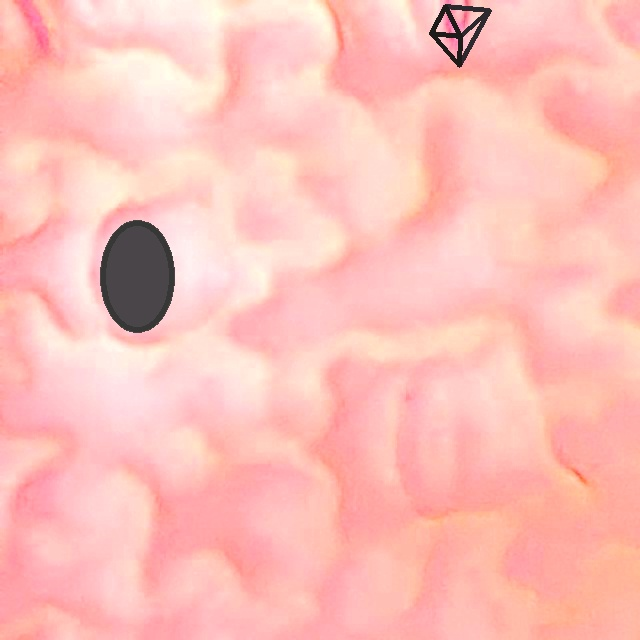open: (100, 220, 174, 331), (429, 4, 491, 67)
